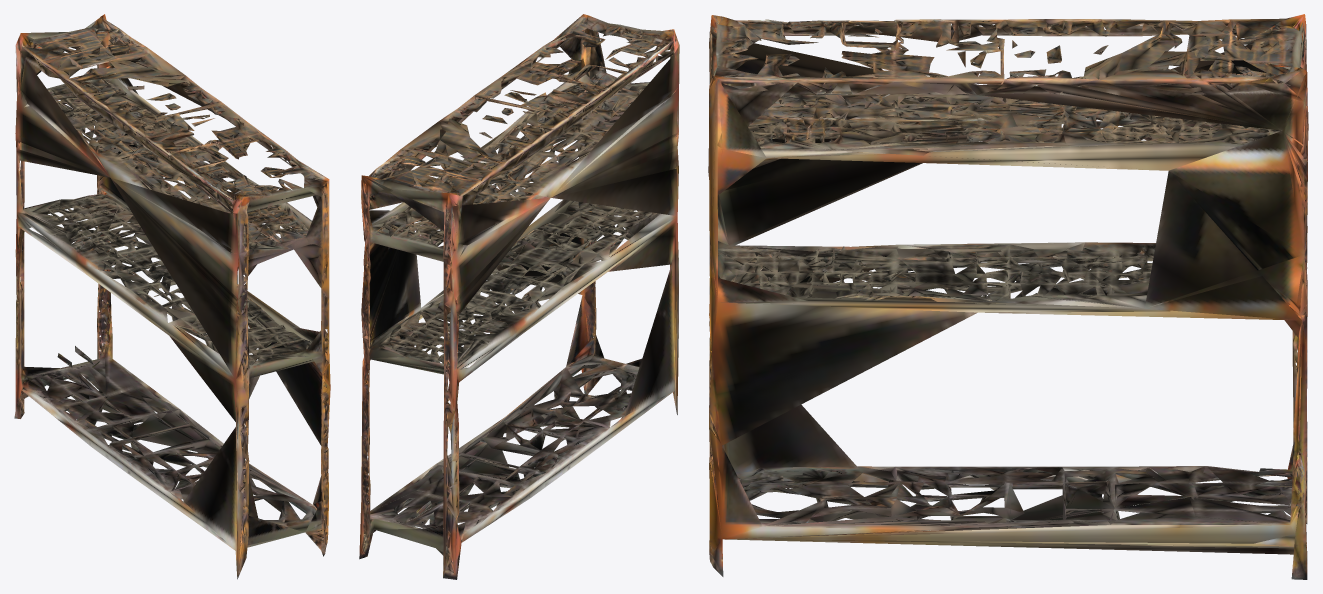
Rendered from shelves_00.glb.
The picture shows the model from 3 angles, left to right: view 1: azimuth 30°, elevation 25°; view 2: azimuth 150°, elevation 25°; view 3: azimuth 270°, elevation 25°; orthographic projection. The views are drawn at different scales.
Bounding box in the file's own units: 0.4902 × 1.87 × 1.99.
Materials: 1 (1 with a texture image).
